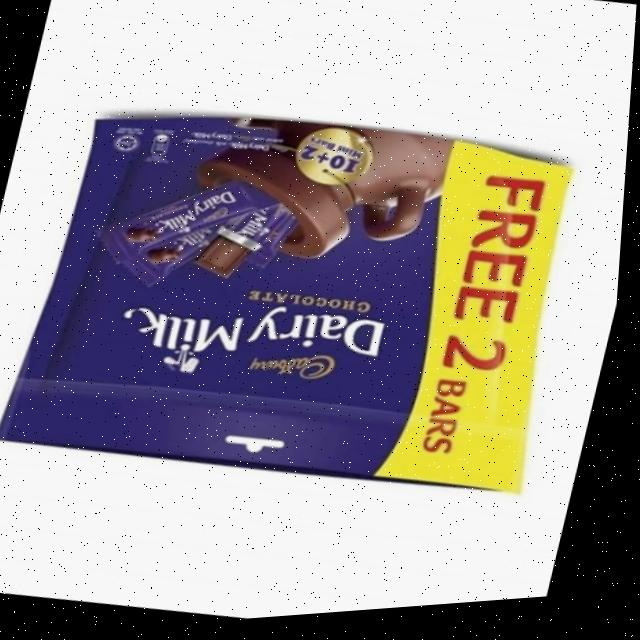cadbury: (0, 73, 611, 538), (90, 157, 274, 291)
